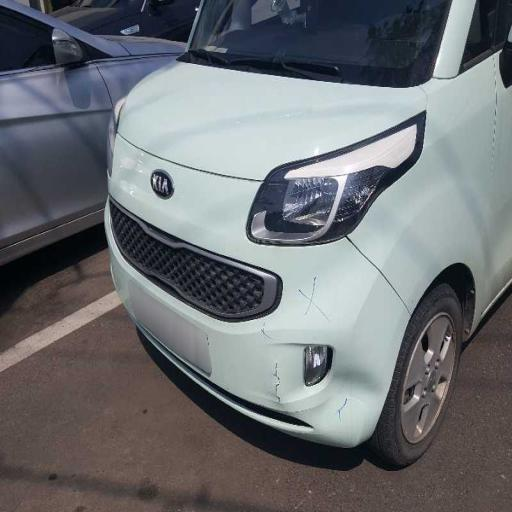scratch: (237, 231, 391, 441)
